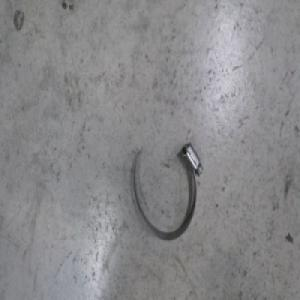AdjustableClamp: (133, 137, 207, 243)
